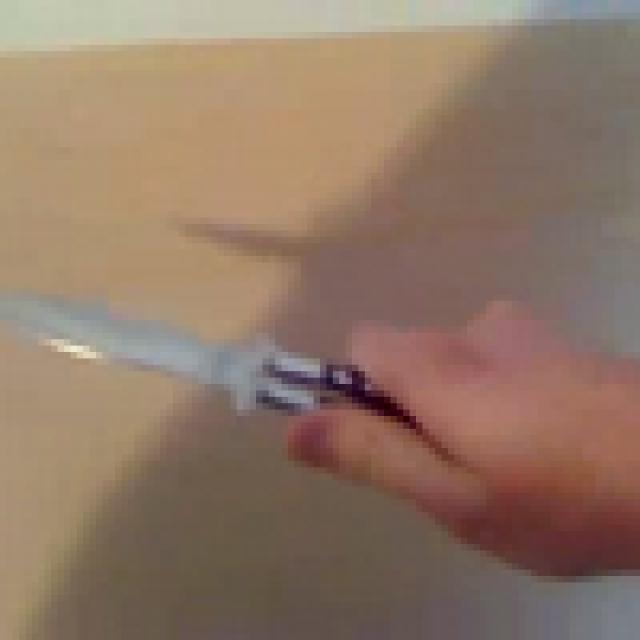knife: (0, 256, 442, 531)
